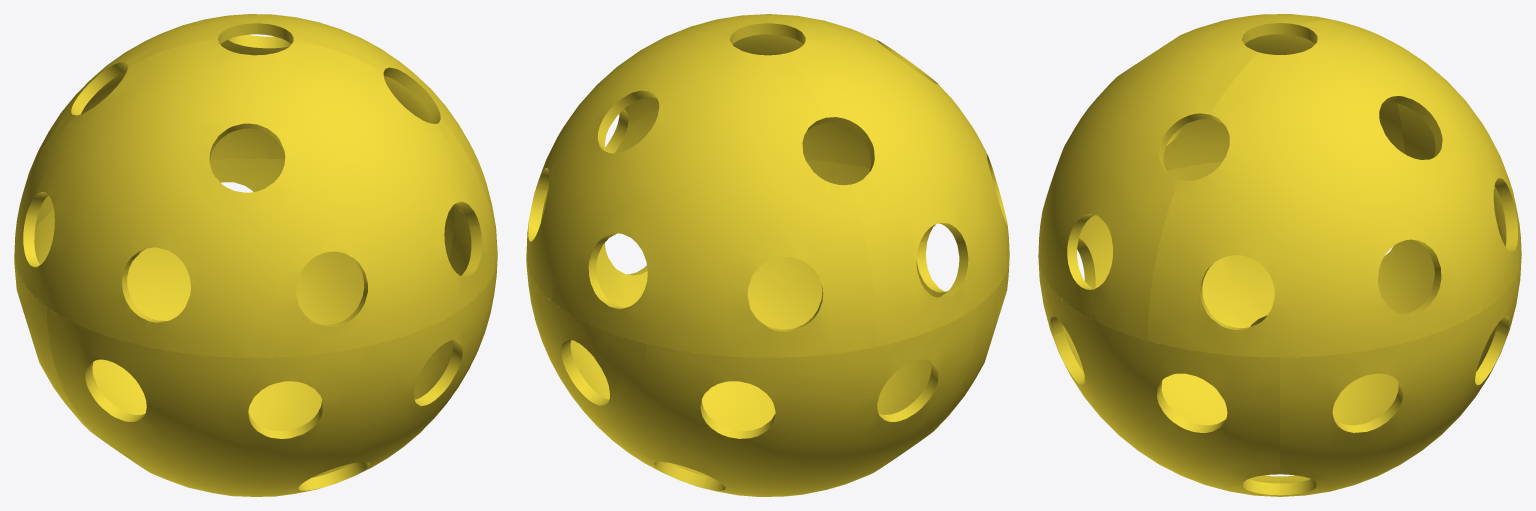
The model's file is pollen.glb.
The picture shows the model from 3 angles, left to right: view 1: azimuth 30°, elevation 25°; view 2: azimuth 150°, elevation 25°; view 3: azimuth 270°, elevation 25°; orthographic projection.
Size of the model in its own units: 0.0711 by 0.0702 by 0.0711.
